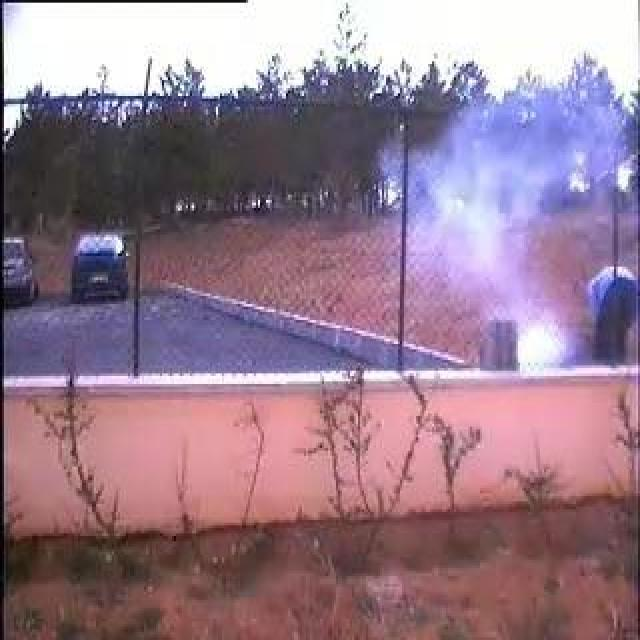Smoke: (386, 133, 584, 371)
